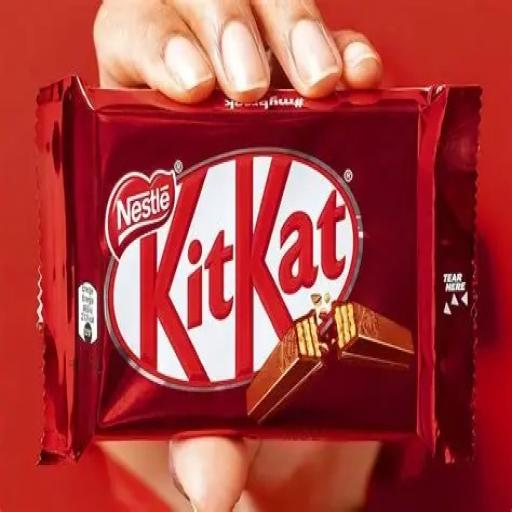kitkat: (14, 49, 494, 484)
